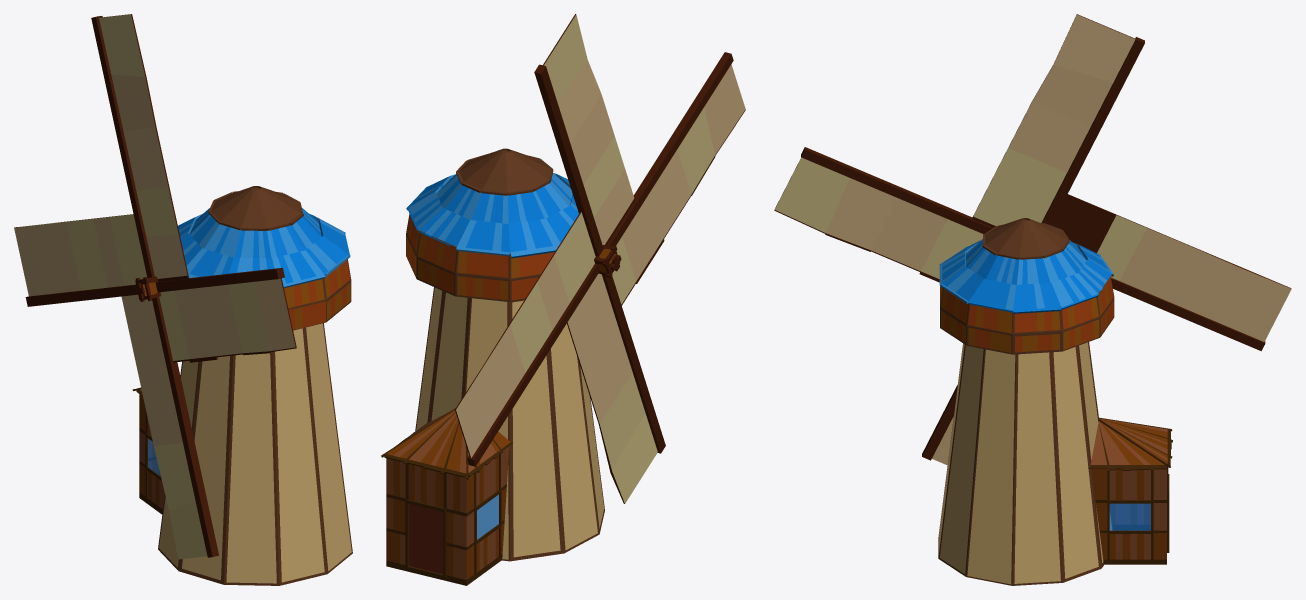
The model's file is Moulin.fbx.
3 renders of one model, left to right at view 1: azimuth 30°, elevation 25°; view 2: azimuth 150°, elevation 25°; view 3: azimuth 270°, elevation 25°, orthographic. The views are drawn at different scales.
Parts seen in each view (by area): view 1: Cylinder.001, Cube.001, Cube; view 2: Cube.001, Cylinder.001, Cube; view 3: Cylinder.001, Cube.001, Cube.
Boxes of the visible parts, x1,y1,x2,y2 form: Cylinder.001: [158, 186, 352, 585]; Cube.001: [14, 14, 296, 559]; Cube: [132, 387, 164, 514]; Cube.001: [455, 14, 745, 503]; Cylinder.001: [406, 148, 604, 561]; Cube: [381, 408, 512, 585]; Cylinder.001: [938, 218, 1114, 585]; Cube.001: [774, 14, 1291, 465]; Cube: [1088, 417, 1172, 564].
Size of the model in its own units: 231 by 598 by 571.
